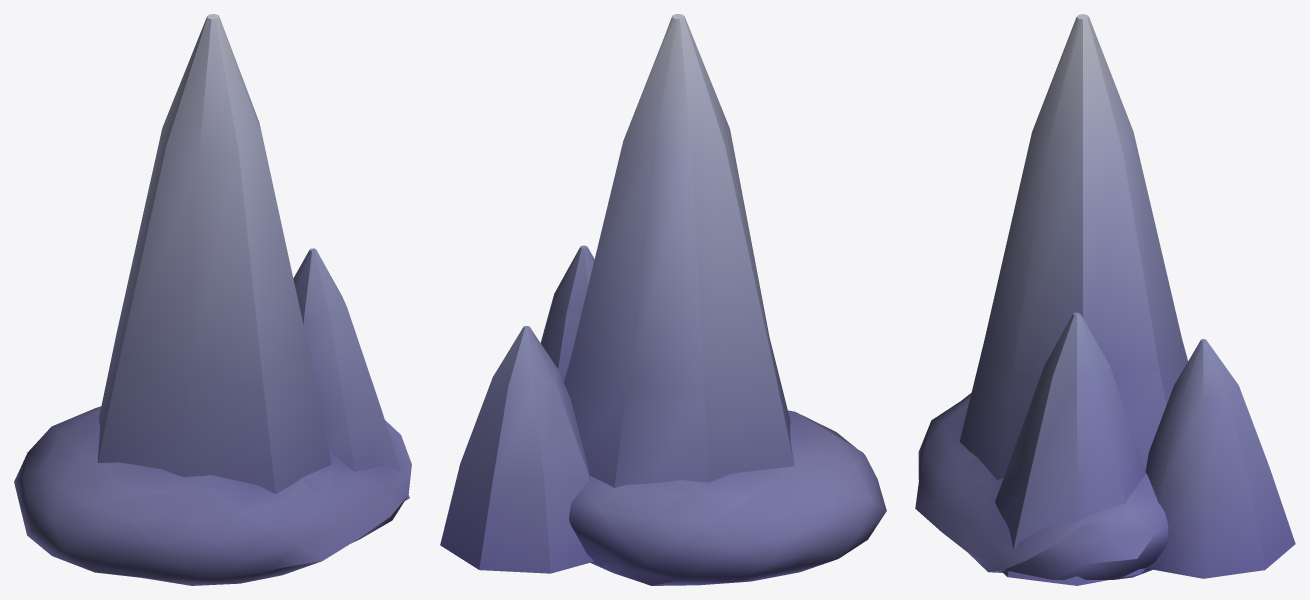
File: verdant_cave_stalagmite_a.glb
The picture shows the model from 3 angles, left to right: view 1: azimuth 30°, elevation 25°; view 2: azimuth 150°, elevation 25°; view 3: azimuth 270°, elevation 25°; orthographic projection. The views are drawn at different scales.
Parts seen in each view (by area): view 1: verdant_cave_stalagmite_a; view 2: verdant_cave_stalagmite_a; view 3: verdant_cave_stalagmite_a.
Boxes of the visible parts, x1=… form: verdant_cave_stalagmite_a: x1=14, y1=14, x2=411, y2=585; verdant_cave_stalagmite_a: x1=440, y1=14, x2=886, y2=585; verdant_cave_stalagmite_a: x1=915, y1=14, x2=1295, y2=585.
Size of the model in its own units: 1.61 by 2.15 by 1.5.
